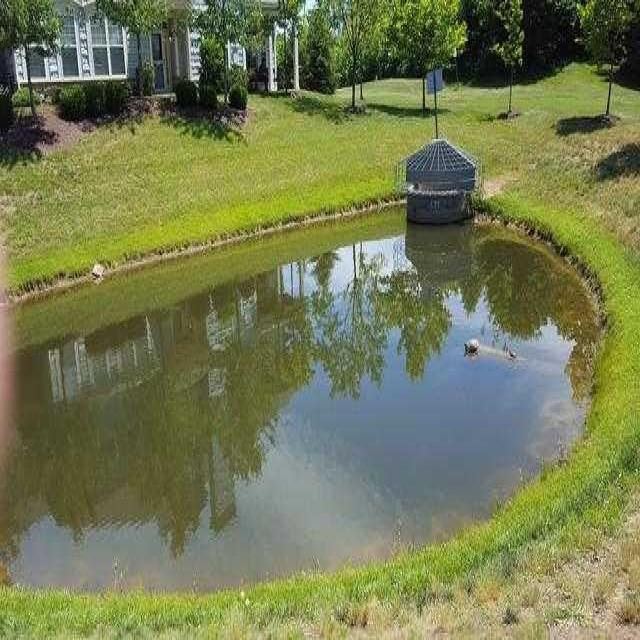Ponds: (2, 200, 604, 594)
